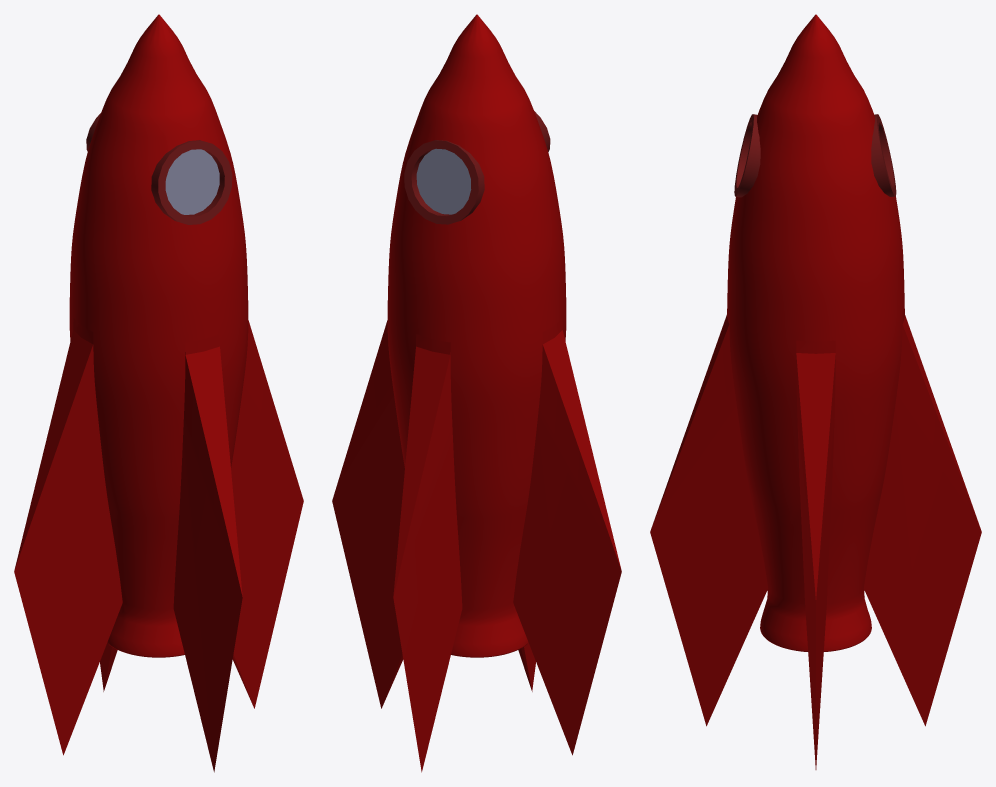
Rendered from redredrock2.fbx.
3 renders of one model, left to right at view 1: azimuth 30°, elevation 25°; view 2: azimuth 150°, elevation 25°; view 3: azimuth 270°, elevation 25°, orthographic.
Parts seen in each view (by area): view 1: polySurface7; view 2: polySurface7; view 3: polySurface7.
Boxes of the visible parts, box(x1,y1,x2,y2) form: polySurface7: box(14, 14, 303, 772); polySurface7: box(332, 14, 621, 772); polySurface7: box(650, 14, 981, 769).
Bounding box in the file's own units: 9.38 × 22.22 × 9.38.
